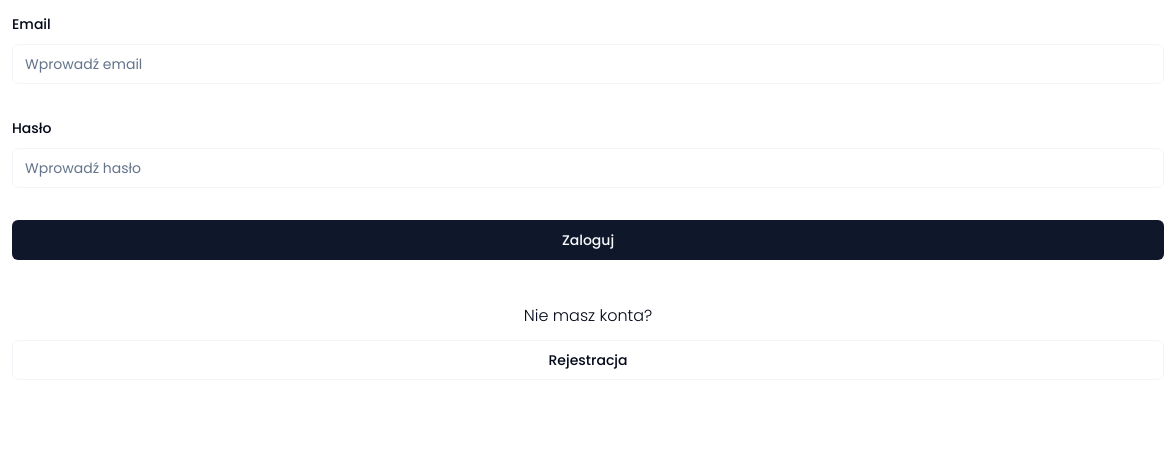
Test: LoginForm › should show error message when submited form is invalid
Type "invalid-email" into the field with placeholder "Wprowadź email". click: (588,64)
box: [12,44,1164,84]
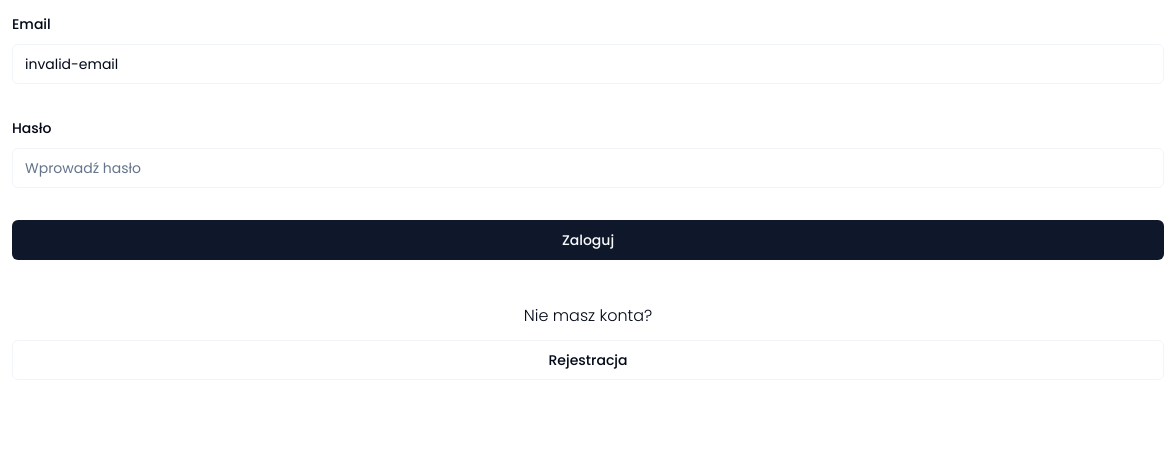
Type "12345" into the password field with placeholder "Wprowadź hasło". click: (588,168)
box: [12,148,1164,188]
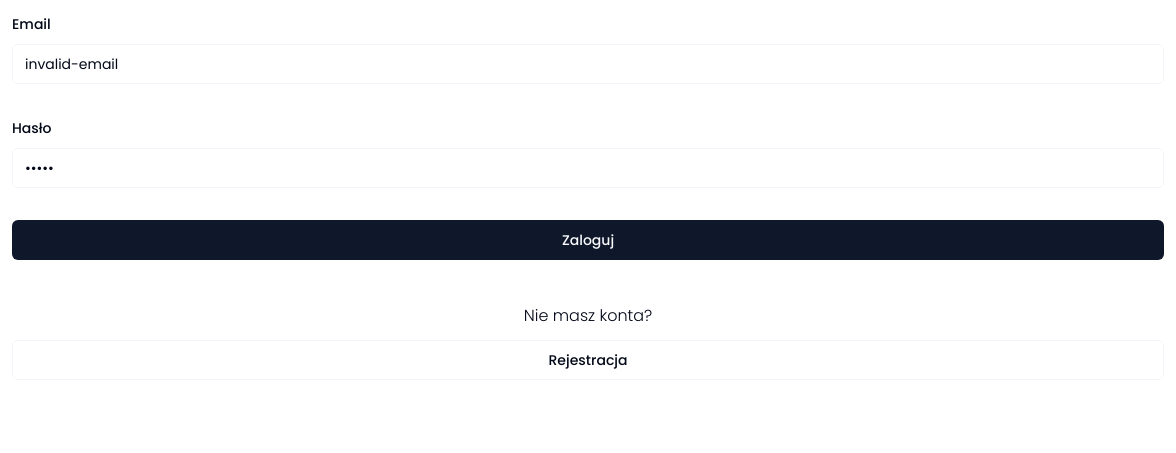
Click the button "Zaloguj". click: (588,240)
box: [12,220,1164,260]
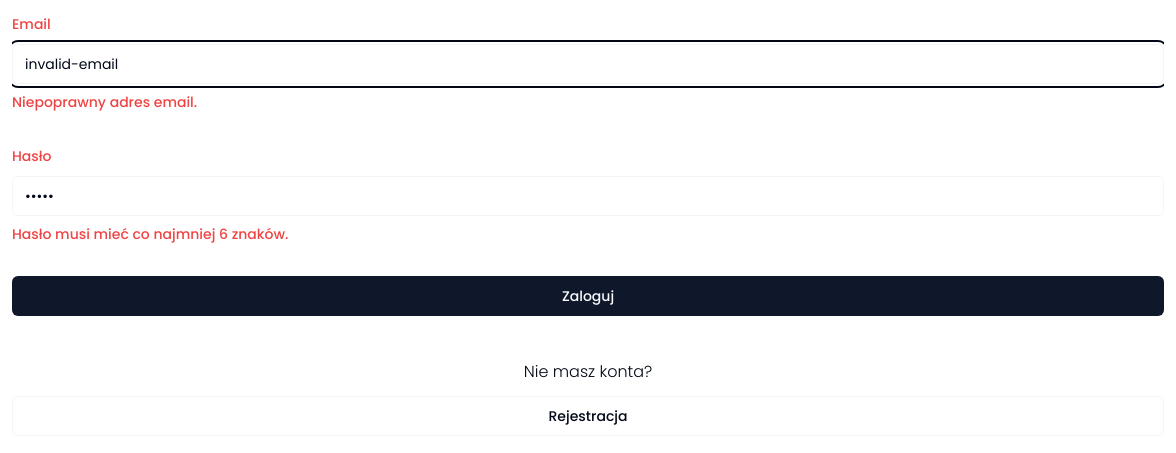
Check: the text "Niepoprawny adres email." is shown, box [12,92,197,112]
Check: the text "Hasło musi mieć co najmniej 6 znaków." is shown, box [12,224,288,244]
